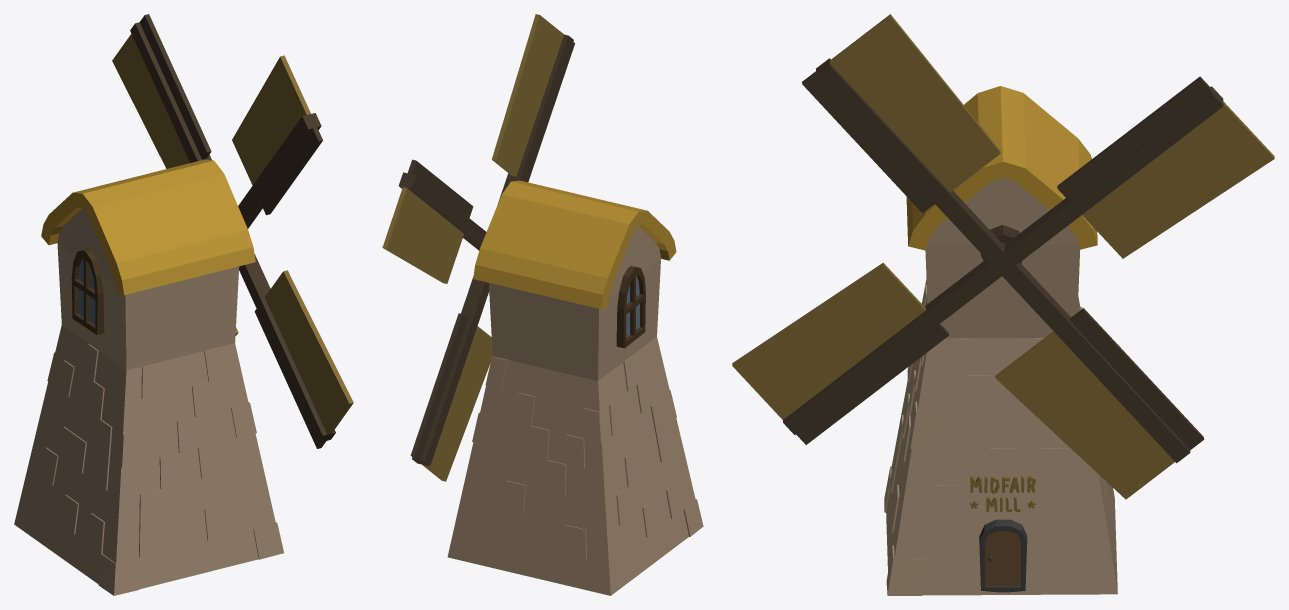
Rendered from Windmill.glb.
3 renders of one model, left to right at view 1: azimuth 30°, elevation 25°; view 2: azimuth 150°, elevation 25°; view 3: azimuth 270°, elevation 25°, orthographic. The views are drawn at different scales.
Parts seen in each view (by area): view 1: Windmill.001, Windmill Fan; view 2: Windmill.001, Windmill Fan; view 3: Windmill Fan, Windmill.001.
Part boxes in pixels (<box>): Windmill.001: <box>14,159,283,595</box>; Windmill Fan: <box>112,14,353,448</box>; Windmill.001: <box>447,180,703,595</box>; Windmill Fan: <box>382,14,574,481</box>; Windmill Fan: <box>732,14,1274,499</box>; Windmill.001: <box>884,86,1117,595</box>.
Size of the model in its own units: 0.5953 by 1.57 by 1.33.
